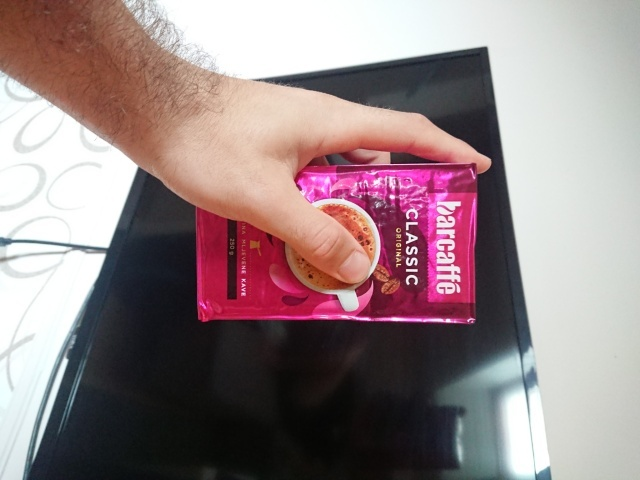Barcaffe Classic Original 225g: (193, 160, 482, 327)
